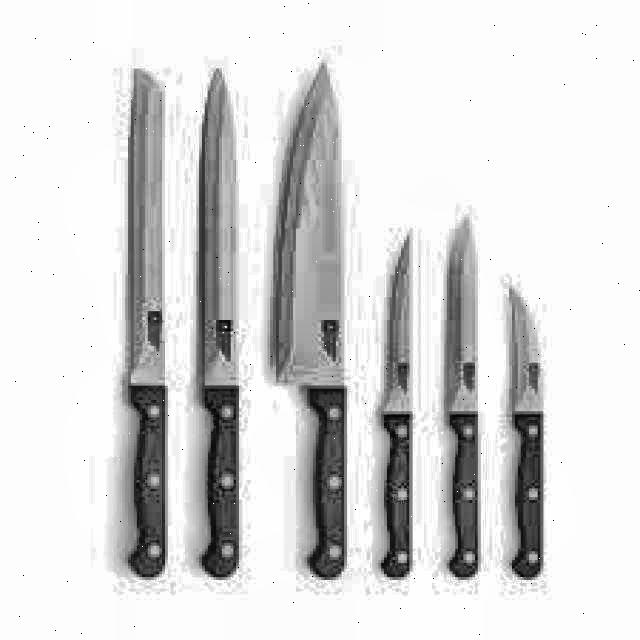knife: (270, 61, 364, 582), (200, 67, 250, 588), (123, 64, 172, 581), (439, 213, 487, 586), (504, 281, 550, 584), (381, 232, 418, 584)
